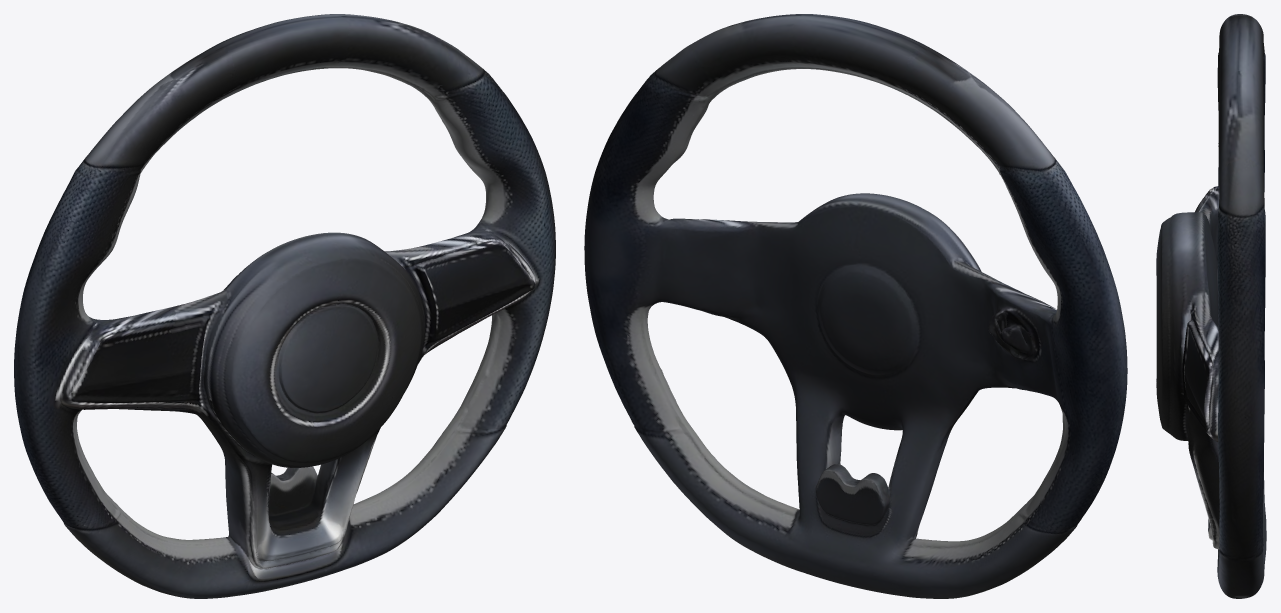
The model's file is scan.glb.
3 views of the same model, side by side, from view 1: azimuth 30°, elevation 25°; view 2: azimuth 150°, elevation 25°; view 3: azimuth 270°, elevation 25° (orthographic). The views are drawn at different scales.
Parts seen in each view (by area): view 1: tripo_node_aaf3d758-9766-4097-be0c-70c83dfdde46; view 2: tripo_node_aaf3d758-9766-4097-be0c-70c83dfdde46; view 3: tripo_node_aaf3d758-9766-4097-be0c-70c83dfdde46.
Part boxes in pixels (x1=…): tripo_node_aaf3d758-9766-4097-be0c-70c83dfdde46: x1=14, y1=14, x2=555, y2=598; tripo_node_aaf3d758-9766-4097-be0c-70c83dfdde46: x1=584, y1=14, x2=1127, y2=598; tripo_node_aaf3d758-9766-4097-be0c-70c83dfdde46: x1=1156, y1=14, x2=1266, y2=598.
Size of the model in its own units: 1 by 0.9991 by 0.1907.
Materials: 1 (1 with a texture image).
